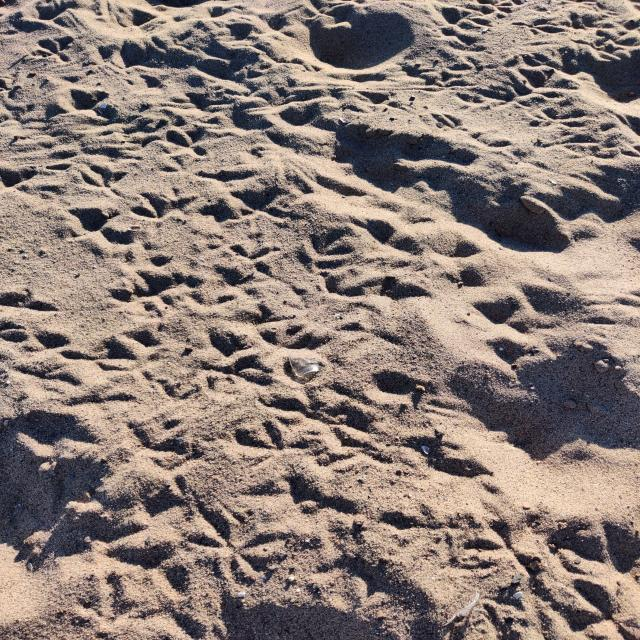litter: (272, 337, 443, 465)
